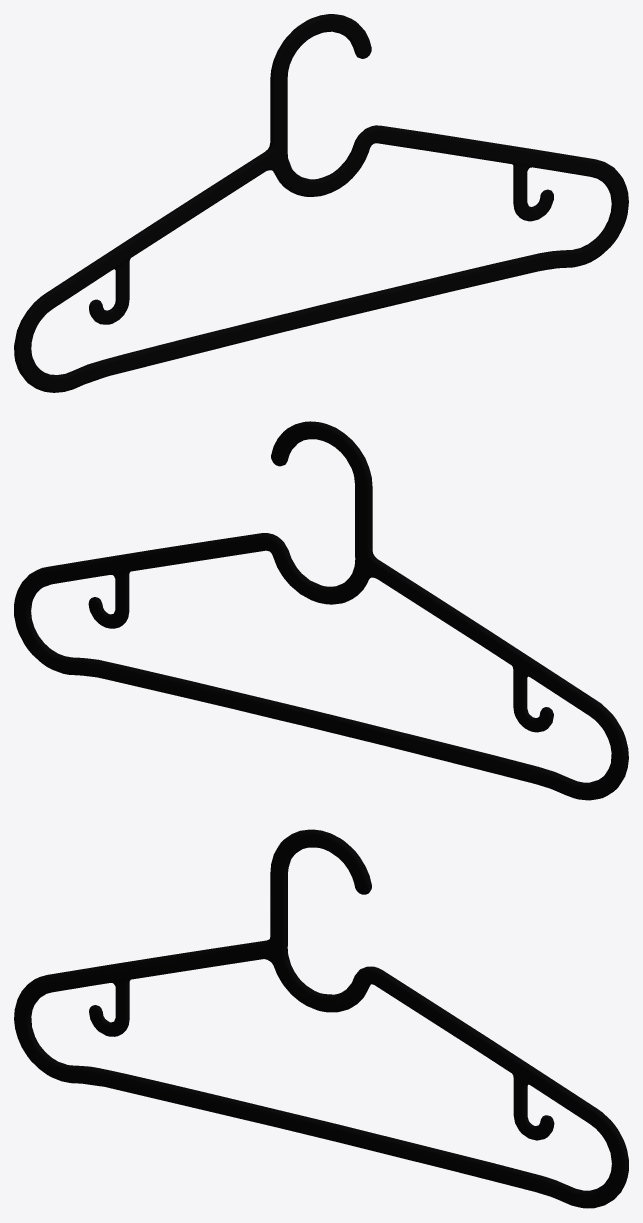
Rendered from spruttig_wieszak_20317079.glb.
3 views of the same model, one above another, from view 1: azimuth 30°, elevation 25°; view 2: azimuth 150°, elevation 25°; view 3: azimuth 330°, elevation 25° (orthographic).
Parts seen in each view (by area): view 1: spruttig_wieszak_20317079; view 2: spruttig_wieszak_20317079; view 3: spruttig_wieszak_20317079.
Boxes of the visible parts, <box> form: spruttig_wieszak_20317079: <box>14,14,628,392</box>; spruttig_wieszak_20317079: <box>14,421,628,800</box>; spruttig_wieszak_20317079: <box>14,829,628,1208</box>.
Size of the model in its own units: 0.3901 by 0.19 by 0.00417.
Materials: 1 (1 with a texture image).
